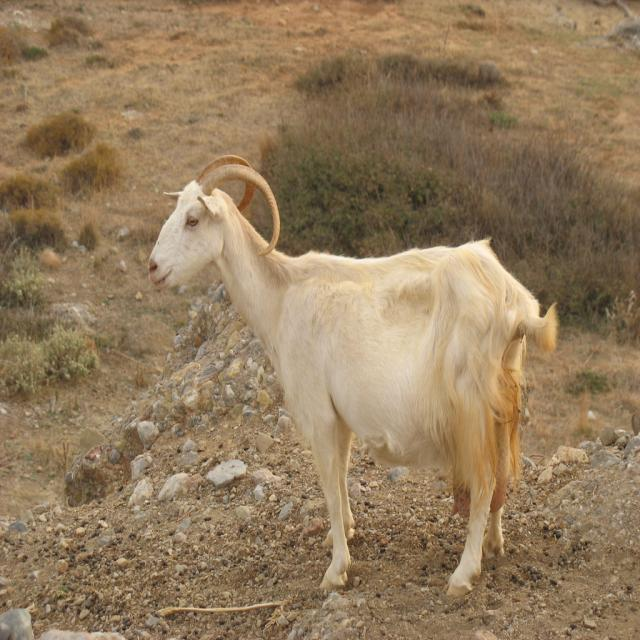Goat: (148, 155, 559, 597)
